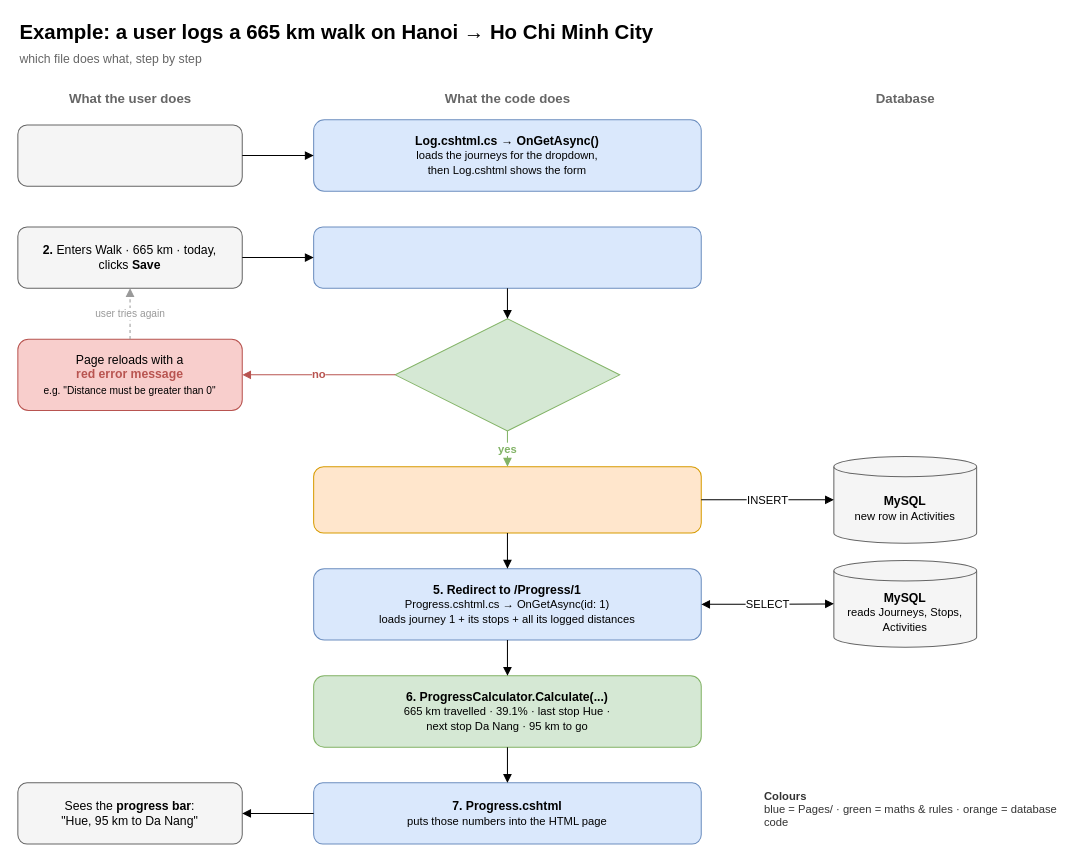
The diagram is 1076 pixels wide and 862 high, and some of its shapes have lost their labels. The shapes that lost their labels are listed below. From the top down, each one's centre as x and y in pixels, then its label:
At (x=129, y=155): "1. Opens /Log".
At (x=507, y=257): "Log.cshtml.cs → OnPostAsync() receives the form values".
At (x=507, y=374): "3. Input valid? distance > 0 · date not in future".
At (x=507, y=499): "4. Save it db.Activities.Add(...) db.SaveChangesAsync()".
